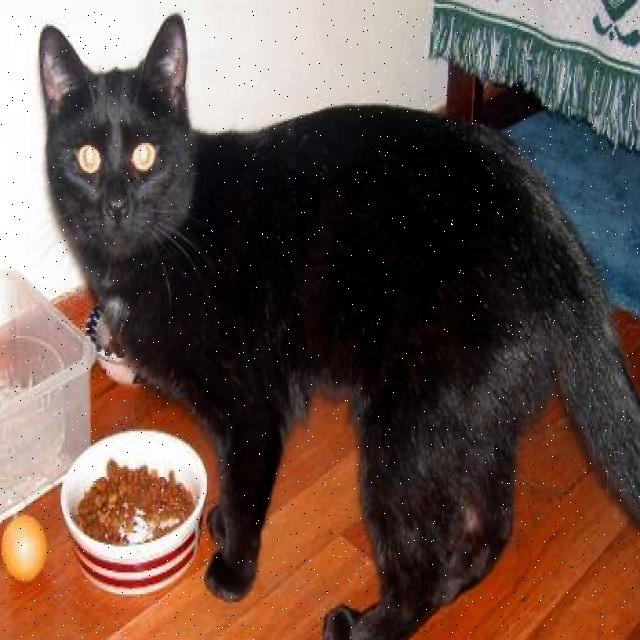Cat: (41, 25, 197, 262)
